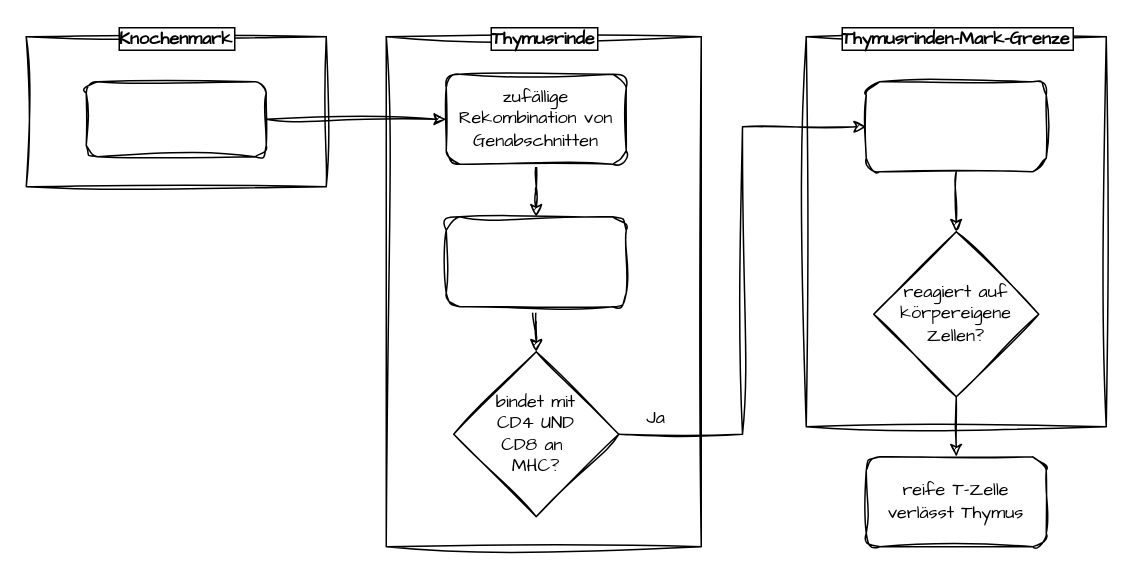
Image size: 1133x573. Some labels were removed from this diagram. Each missing label, with the box of its shape:
Bildung einer unreifen T-Zelle: (85, 80, 266, 157)
Bildung von TCR, CD4 und CD8: (445, 215, 626, 307)
T-Zelle verliert CD4 ODER CD8: (865, 80, 1046, 172)
